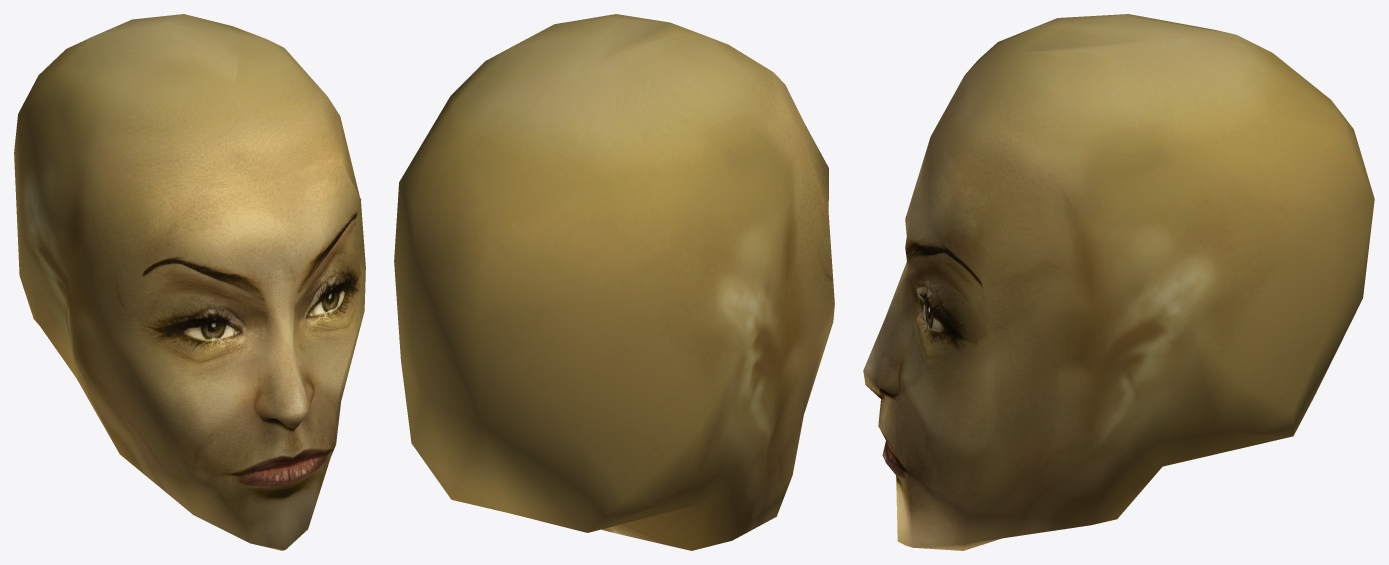
File: b_n_high elf_f_head_04.glb
3 views of the same model, side by side, from view 1: azimuth 30°, elevation 25°; view 2: azimuth 150°, elevation 25°; view 3: azimuth 270°, elevation 25° (orthographic). The views are drawn at different scales.
Visible parts, largest first — view 1: Tri B_N_High Elf_F_Head_04; view 2: Tri B_N_High Elf_F_Head_04; view 3: Tri B_N_High Elf_F_Head_04.
Part boxes in pixels (x1,y1,x2,y2): Tri B_N_High Elf_F_Head_04: [14, 14, 365, 550]; Tri B_N_High Elf_F_Head_04: [394, 14, 834, 550]; Tri B_N_High Elf_F_Head_04: [863, 14, 1374, 550].
Bounding box in the file's own units: 0.0969 × 0.1523 × 0.1389.
1 material, 1 textured.
